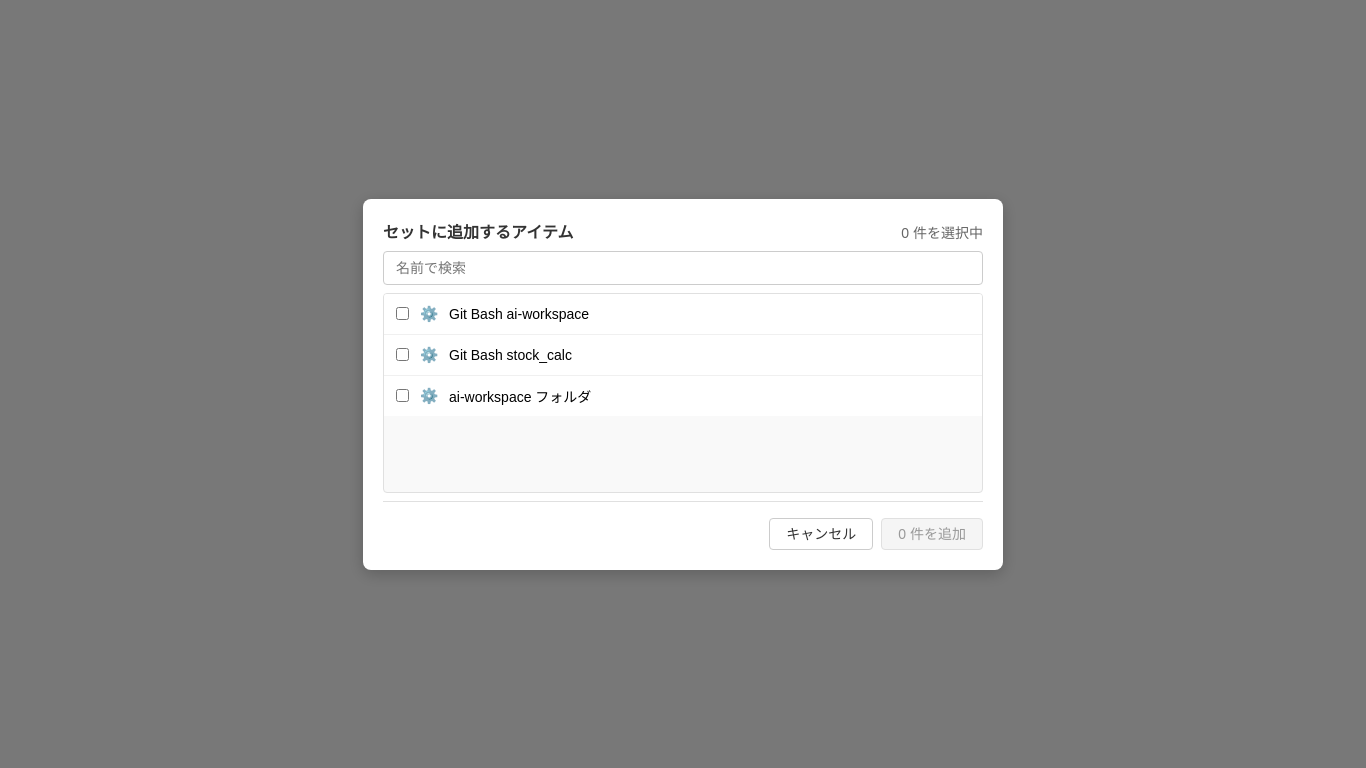
SetItemPickerModal › 検索は空白で区切った言葉をすべて含むものに絞る（ランチャーと同じ）
Step 1. Type "git  AI-WORK" into the field → (683, 268), box [383, 250, 983, 284]
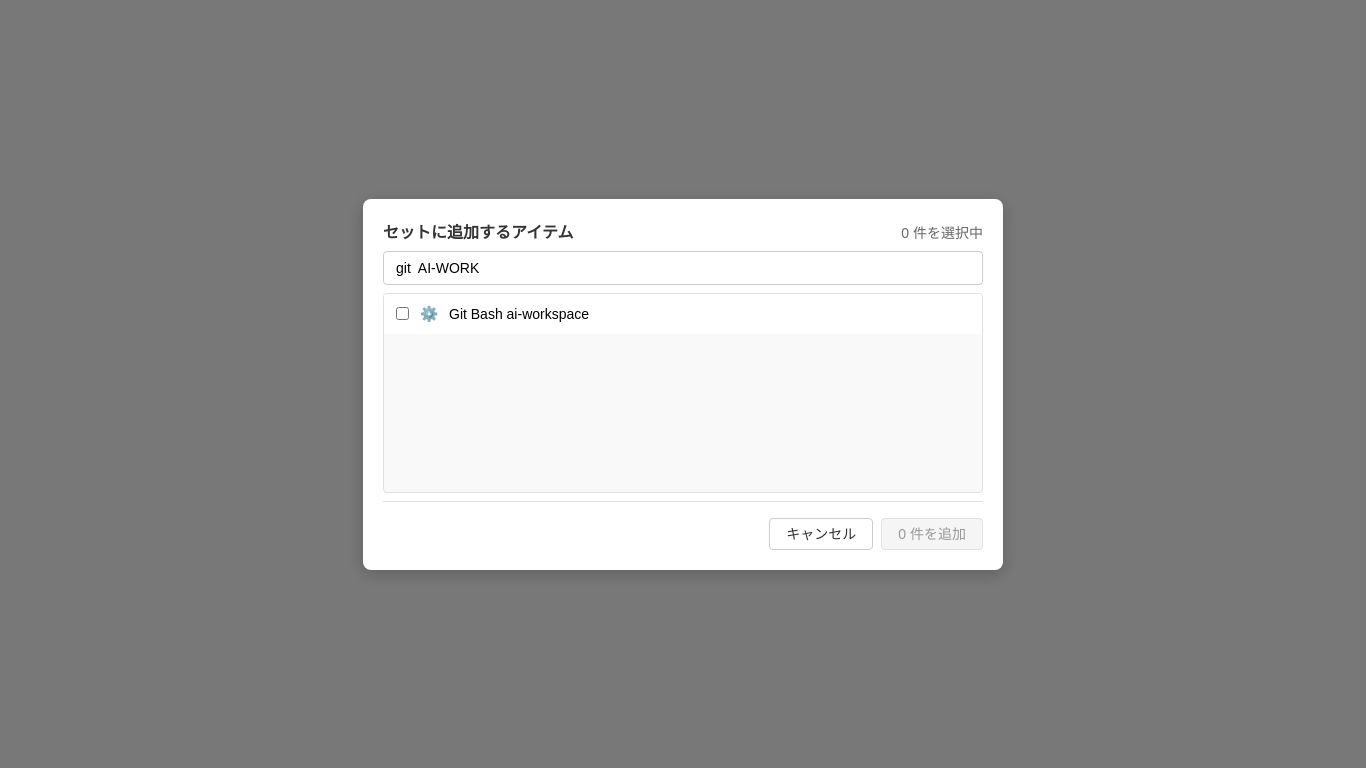
Expected: the text "Git Bash ai-workspace" is shown, [449, 306, 589, 322]
Expected: the text "Git Bash stock_calc" is gone
Expected: the text "ai-workspace フォルダ" is gone
